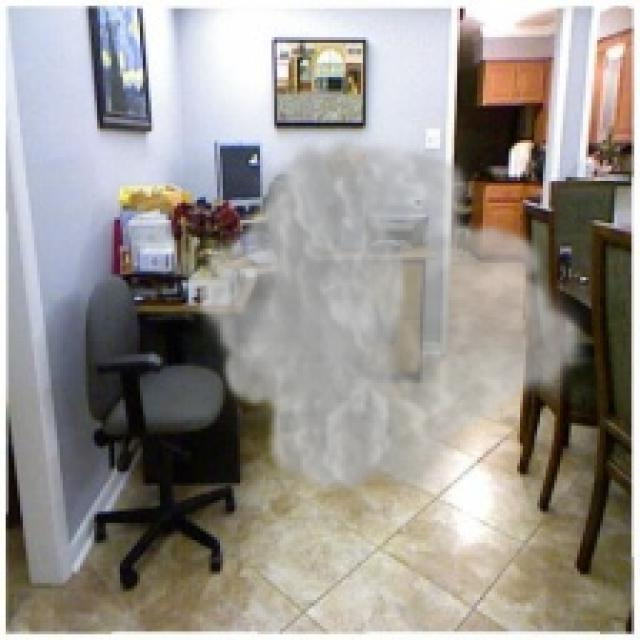Smoke: (192, 128, 592, 503)
